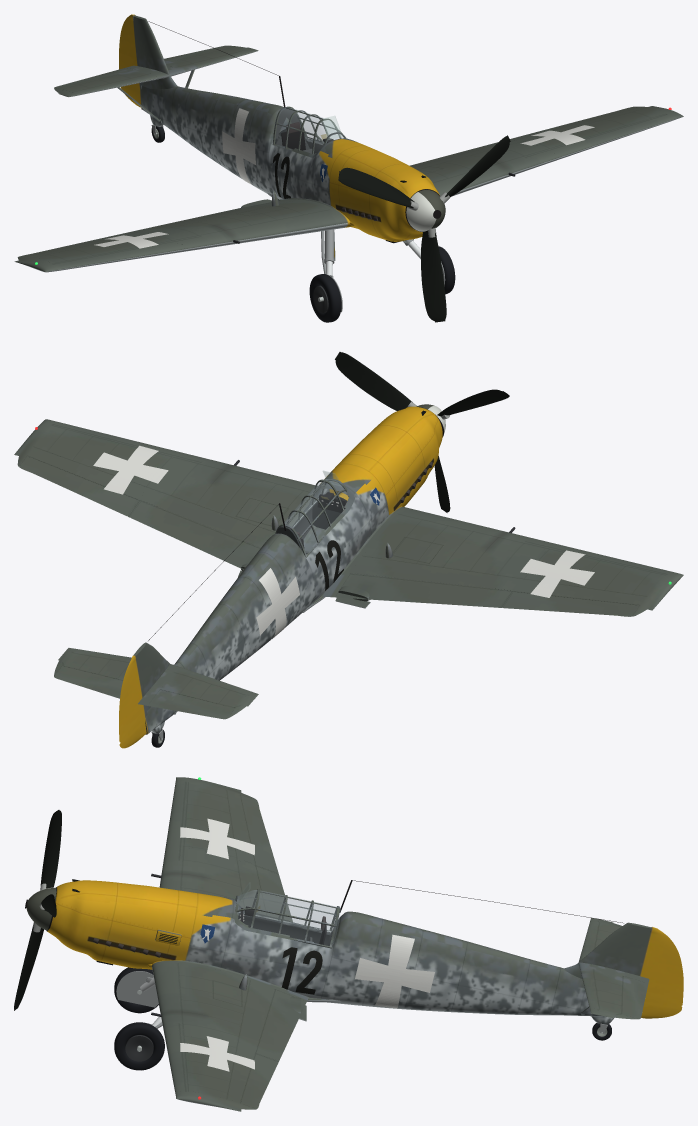
The picture shows the model from 3 angles, top to bottom: view 1: azimuth 30°, elevation 25°; view 2: azimuth 150°, elevation 25°; view 3: azimuth 270°, elevation 25°; orthographic projection. The views are drawn at different scales.
Parts seen in each view (by area): view 1: canopy_bow_f0, aerial_mast, canopy_glass; view 2: canopy_bow_f0, aerial_mast, canopy_glass; view 3: canopy_bow_f0, aerial_mast, canopy_glass.
Part boxes in pixels (bbox=[...]): canopy_bow_f0: bbox=[14, 14, 683, 272]; aerial_mast: bbox=[94, 21, 594, 322]; canopy_glass: bbox=[275, 108, 343, 153]; canopy_bow_f0: bbox=[14, 406, 683, 748]; aerial_mast: bbox=[93, 352, 594, 747]; canopy_glass: bbox=[281, 470, 348, 553]; canopy_bow_f0: bbox=[47, 777, 683, 1111]; aerial_mast: bbox=[14, 810, 623, 1071]; canopy_glass: bbox=[234, 882, 340, 948].
Bounding box in the file's own units: 9.87 × 2.73 × 8.69.
Materials: 9 (9 with a texture image).
